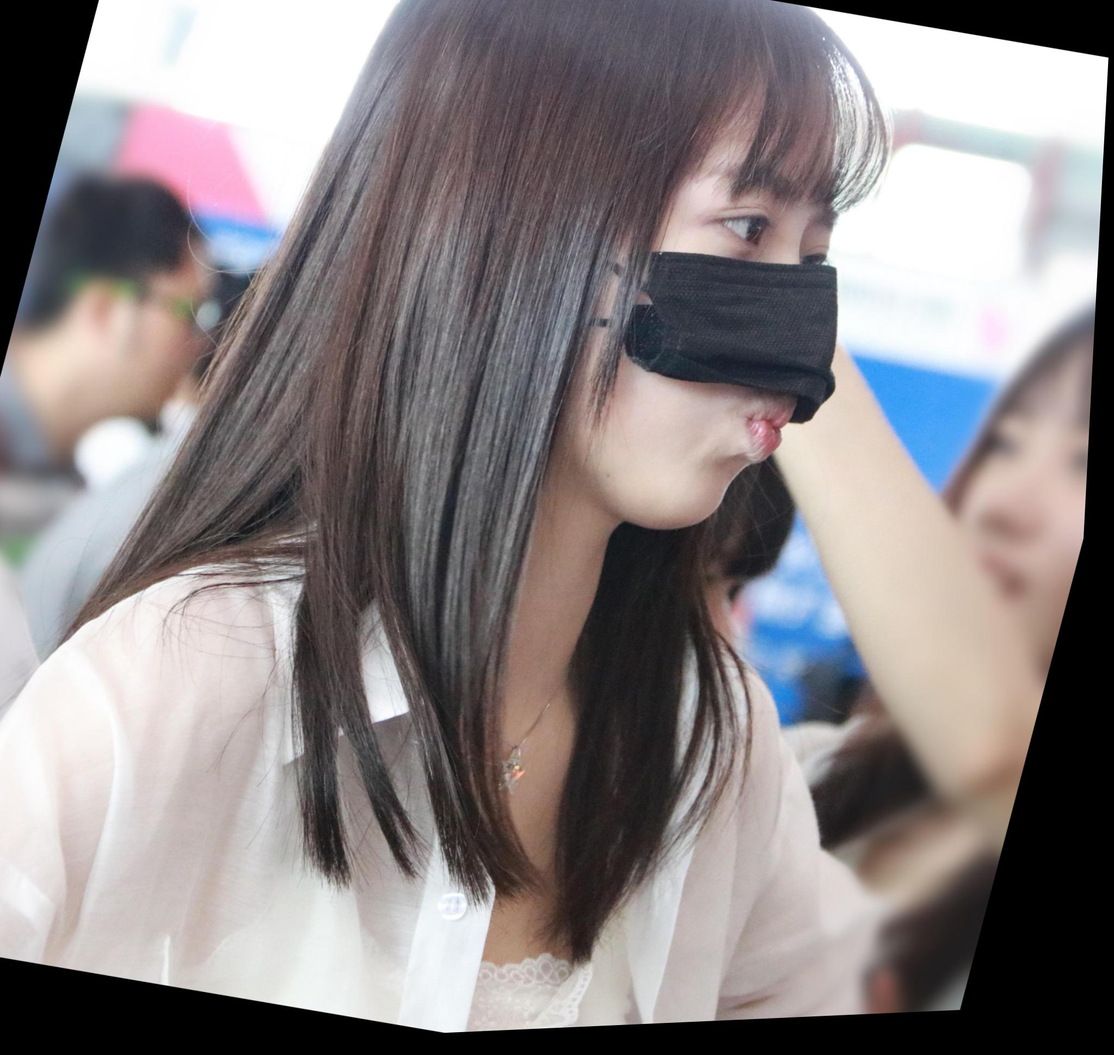NONE: (891, 364, 1098, 769), (77, 264, 232, 426)
WRONG: (525, 88, 889, 565)
